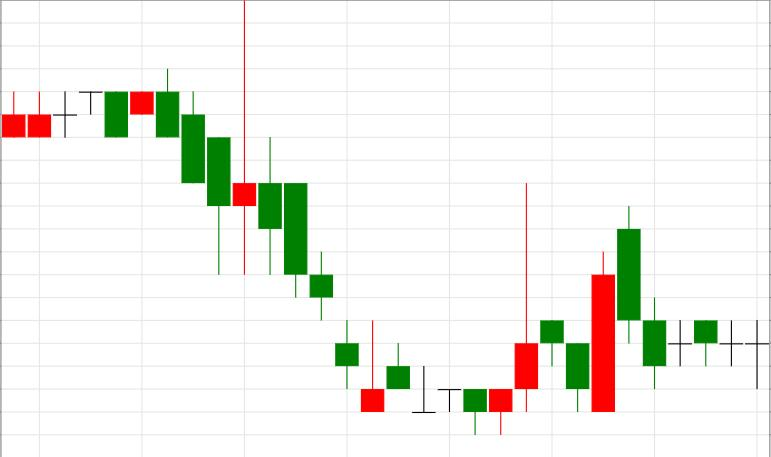bullish_engulfing_rise: (258, 136, 614, 436)
